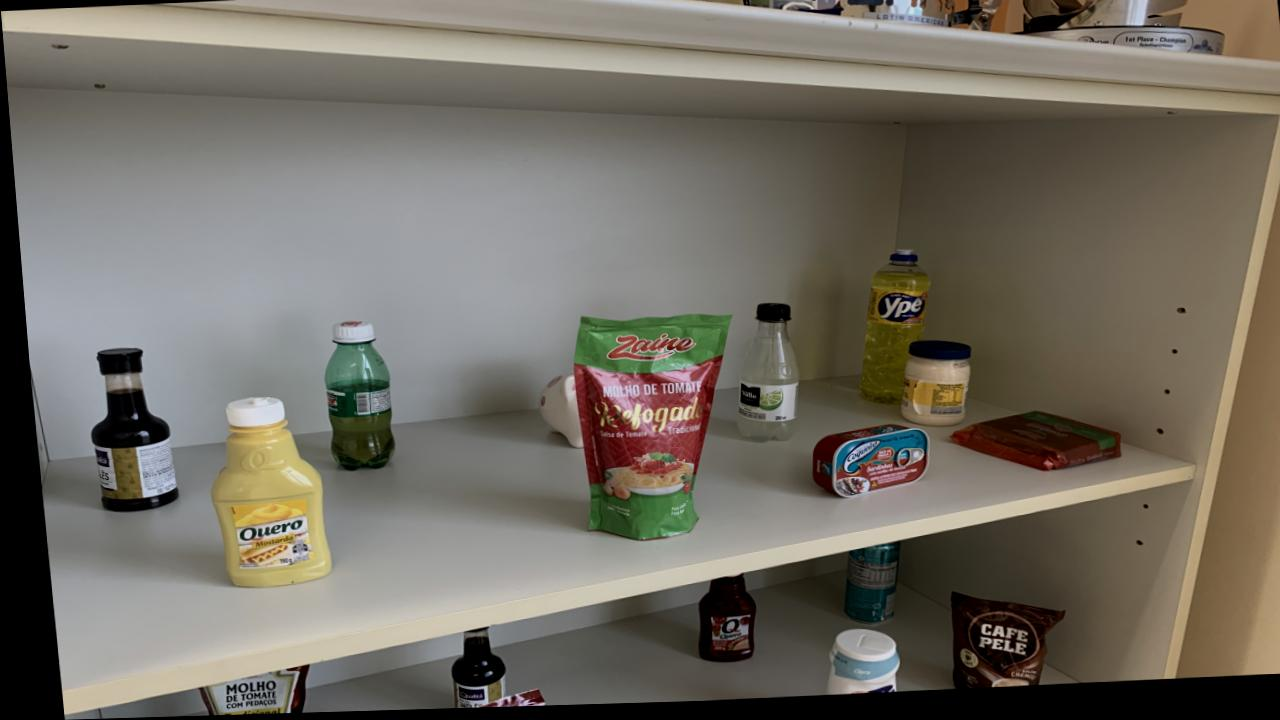Cleaner-Cleanup_Items: (814, 634, 888, 700)
Coffee-Pantry_Items: (940, 599, 1054, 694)
Detergent-Cleanup_Items: (852, 255, 924, 410)
English_Sauce-Pantry_Items: (84, 348, 169, 512), (439, 631, 495, 711)
Guarana-Drinks: (317, 324, 386, 473)
Guava-Snacks: (944, 418, 1113, 477)
Ketchup-Pantry_Items: (686, 579, 746, 667)
Mayonnaise-Pantry_Items: (894, 345, 965, 432)
Mustard-Pantry_Items: (202, 399, 323, 588)
Pig_Safe-Miscellaneous: (532, 375, 576, 451)
Soda-Drinks: (729, 307, 792, 447)
Tea-Drinks: (832, 547, 891, 629)
Tomato_Sauce-Pantry_Items: (567, 319, 724, 544), (188, 667, 297, 716)
Tuna_Can-Pantry_Items: (803, 430, 922, 502)
